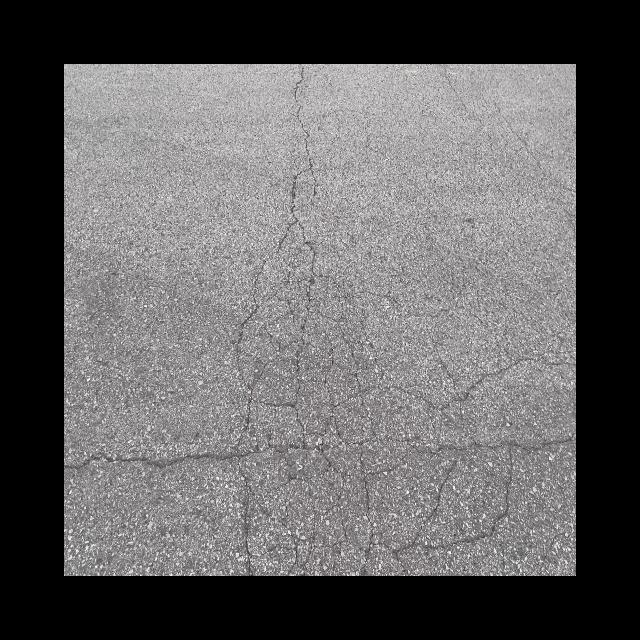retak_memanjang: (64, 356, 576, 482), (222, 64, 325, 456)
